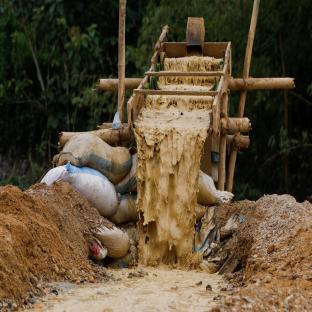ProcessingEquipment: (126, 11, 246, 222)
